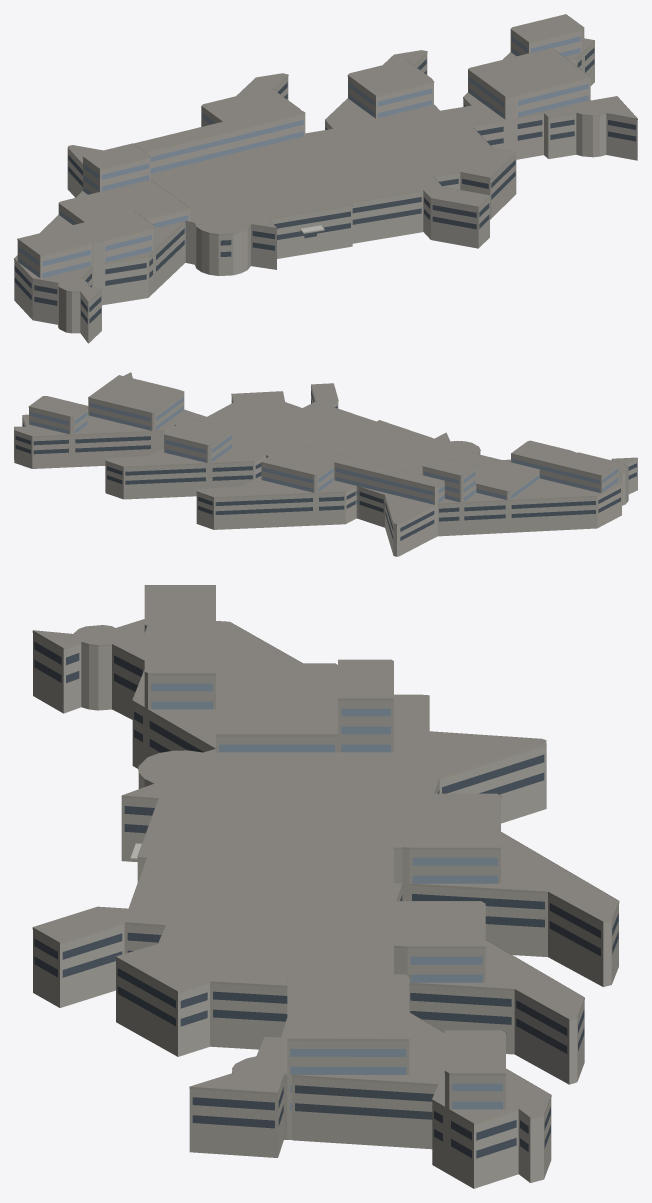
File: memorial-hospital-nlr.glb
3 views of the same model, one above another, from view 1: azimuth 30°, elevation 25°; view 2: azimuth 150°, elevation 25°; view 3: azimuth 270°, elevation 25° (orthographic). The views are drawn at different scales.
Parts seen in each view (by area): view 1: memorial_hospital_nlr; view 2: memorial_hospital_nlr; view 3: memorial_hospital_nlr.
Boxes of the visible parts, <box> form: memorial_hospital_nlr: <box>14,14,637,343</box>; memorial_hospital_nlr: <box>14,372,637,556</box>; memorial_hospital_nlr: <box>32,585,619,1188</box>.
Size of the model in its own units: 236 by 25.91 by 115.
